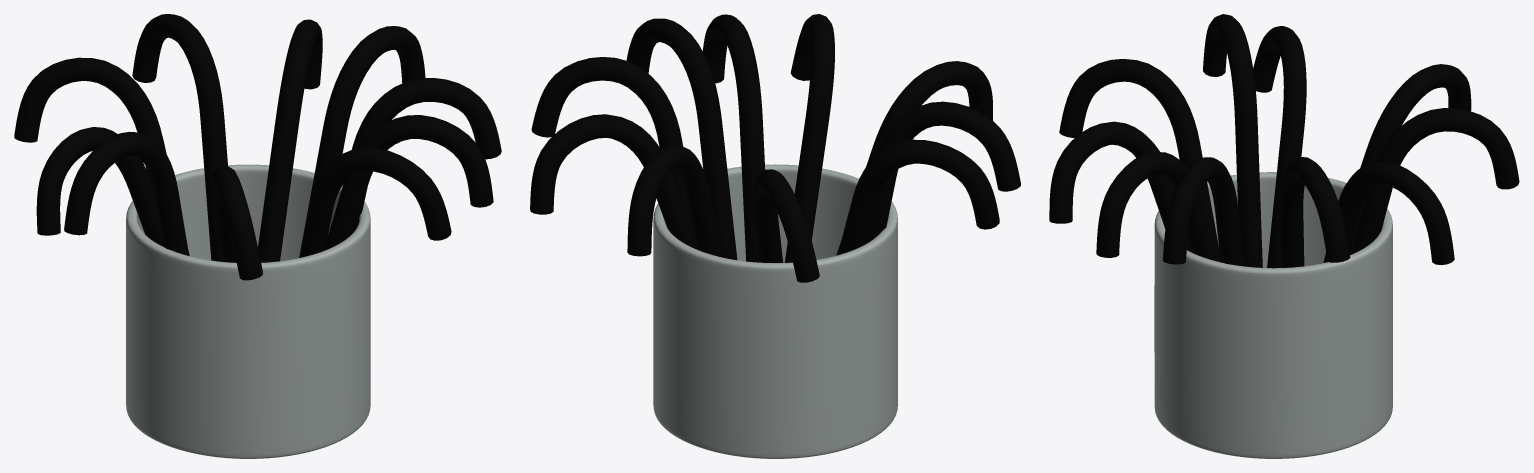
Rendered from JarWithCandies.obj.
The picture shows the model from 3 angles, left to right: view 1: azimuth 30°, elevation 25°; view 2: azimuth 150°, elevation 25°; view 3: azimuth 270°, elevation 25°; orthographic projection. The views are drawn at different scales.
Visible parts, largest first — view 1: Glass, Food; view 2: Food, Glass; view 3: Food, Glass.
Boxes of the visible parts, x1=… form: Glass: x1=126, y1=164, x2=370, y2=458; Food: x1=14, y1=14, x2=501, y2=280; Food: x1=530, y1=14, x2=1020, y2=282; Glass: x1=653, y1=164, x2=897, y2=458; Food: x1=1049, y1=14, x2=1519, y2=268; Glass: x1=1154, y1=172, x2=1392, y2=458.
Bounding box in the file's own units: 13.77 × 10.13 × 13.53.
2 materials, 1 textured.
